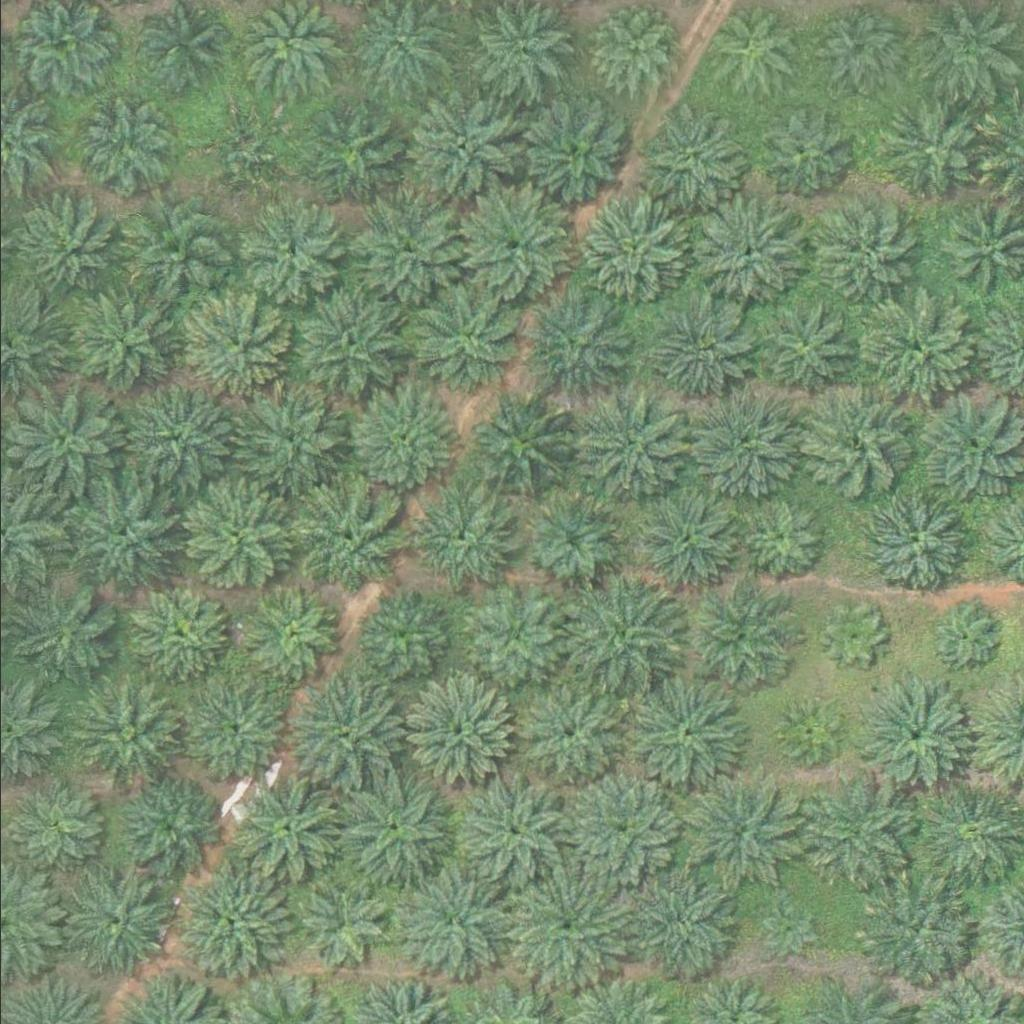Kelapa_Sawit: (461, 393, 575, 506), (636, 101, 750, 214), (409, 278, 523, 391), (343, 385, 457, 498), (290, 483, 404, 596), (179, 480, 293, 593), (7, 581, 121, 694), (688, 771, 801, 884), (565, 775, 678, 888), (854, 680, 967, 793), (628, 677, 741, 790), (799, 385, 912, 498), (686, 389, 799, 502), (571, 390, 684, 503), (861, 290, 974, 403), (741, 292, 854, 405), (516, 93, 629, 206), (401, 92, 514, 205), (295, 95, 408, 208), (113, 193, 226, 306), (231, 381, 344, 494), (398, 677, 511, 790), (453, 770, 566, 883), (339, 773, 452, 886), (234, 774, 347, 887), (174, 868, 287, 981), (58, 865, 171, 978), (64, 478, 177, 591), (854, 874, 968, 986), (521, 288, 635, 400), (690, 198, 804, 310), (569, 194, 683, 306), (72, 675, 186, 787), (623, 869, 736, 981), (510, 871, 623, 983), (799, 780, 912, 892), (509, 677, 622, 789), (682, 581, 795, 693), (560, 580, 673, 692), (855, 489, 968, 601), (624, 483, 737, 595), (639, 293, 752, 405), (807, 199, 920, 311), (455, 189, 568, 301), (351, 194, 464, 306), (233, 195, 346, 307), (292, 290, 405, 402), (177, 291, 290, 403), (124, 388, 237, 500), (285, 675, 398, 787), (175, 673, 288, 785), (392, 865, 505, 977), (5, 386, 118, 498), (61, 286, 174, 398), (519, 491, 620, 591), (464, 591, 565, 691), (354, 592, 455, 692), (119, 776, 220, 876), (286, 876, 387, 976), (14, 193, 115, 293), (75, 100, 176, 200), (877, 99, 977, 199), (747, 100, 847, 200), (415, 494, 515, 594), (240, 590, 340, 690), (128, 586, 228, 686), (1, 777, 101, 877), (739, 495, 827, 583), (195, 116, 284, 203), (808, 1, 896, 88), (589, 8, 677, 95), (777, 701, 840, 764), (931, 609, 994, 672), (820, 604, 883, 667), (757, 898, 820, 960)
